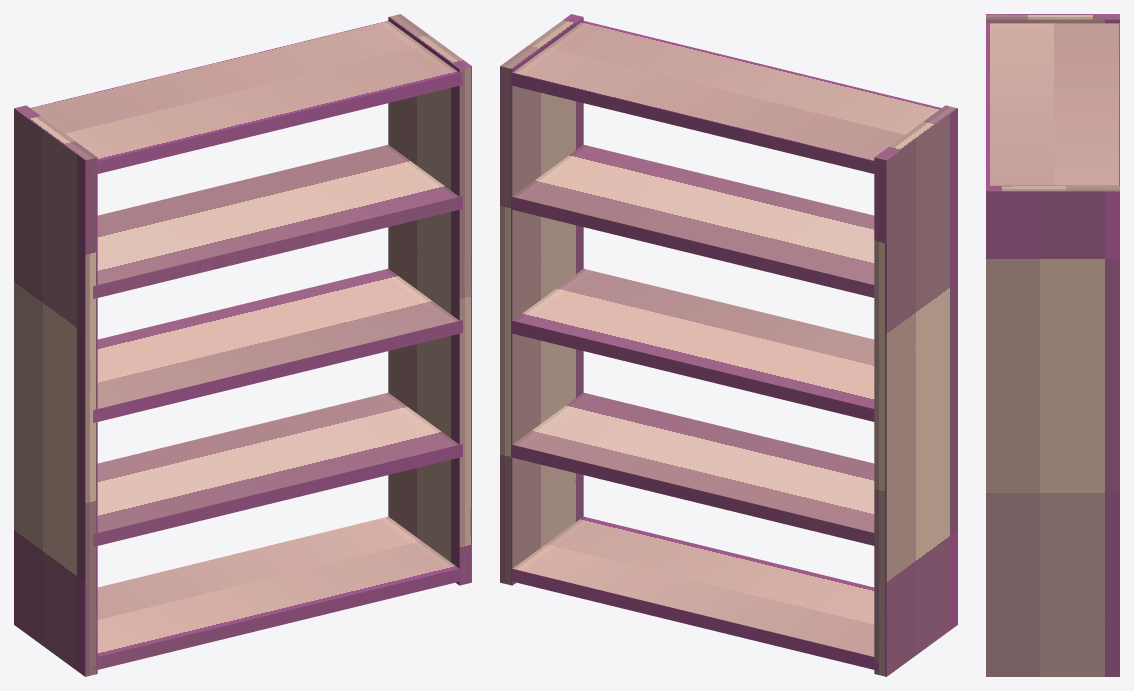
Rendered from estanteria.obj.
3 views of the same model, side by side, from view 1: azimuth 30°, elevation 25°; view 2: azimuth 150°, elevation 25°; view 3: azimuth 270°, elevation 25° (orthographic). The views are drawn at different scales.
Parts seen in each view (by area): view 1: estanteria; view 2: estanteria; view 3: estanteria.
Part boxes in pixels (x1,y1,x2,y2): estanteria: (14,14,471,676); estanteria: (500,14,957,676); estanteria: (986,14,1119,676).
Size of the model in its own units: 3.13 by 4 by 1.
